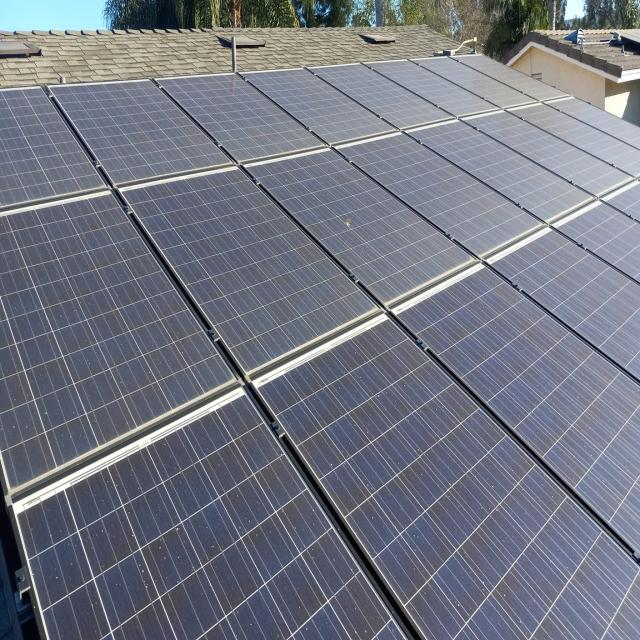dust-solar-panel: (10, 314, 640, 640)
